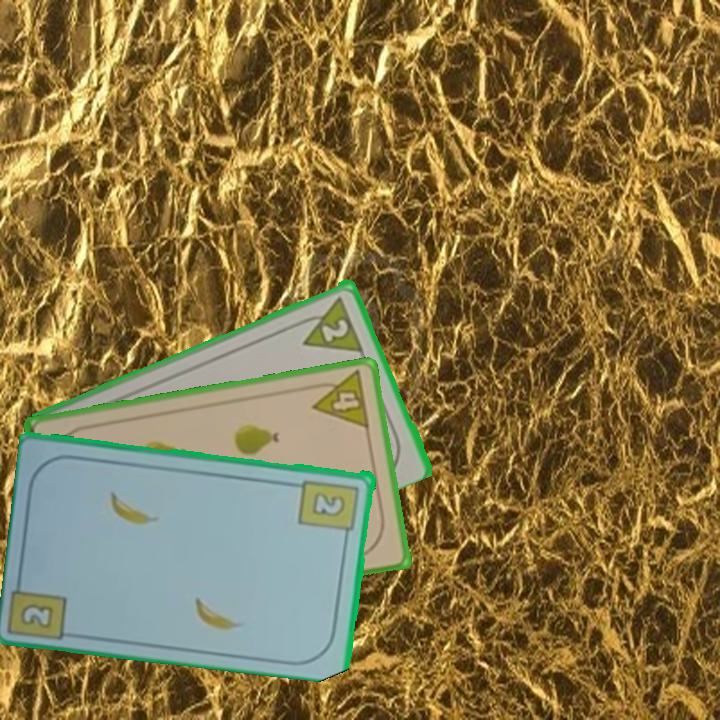2b: (296, 475, 362, 543), (17, 600, 57, 631)
2p: (292, 292, 366, 355)
4p: (306, 367, 372, 432)
